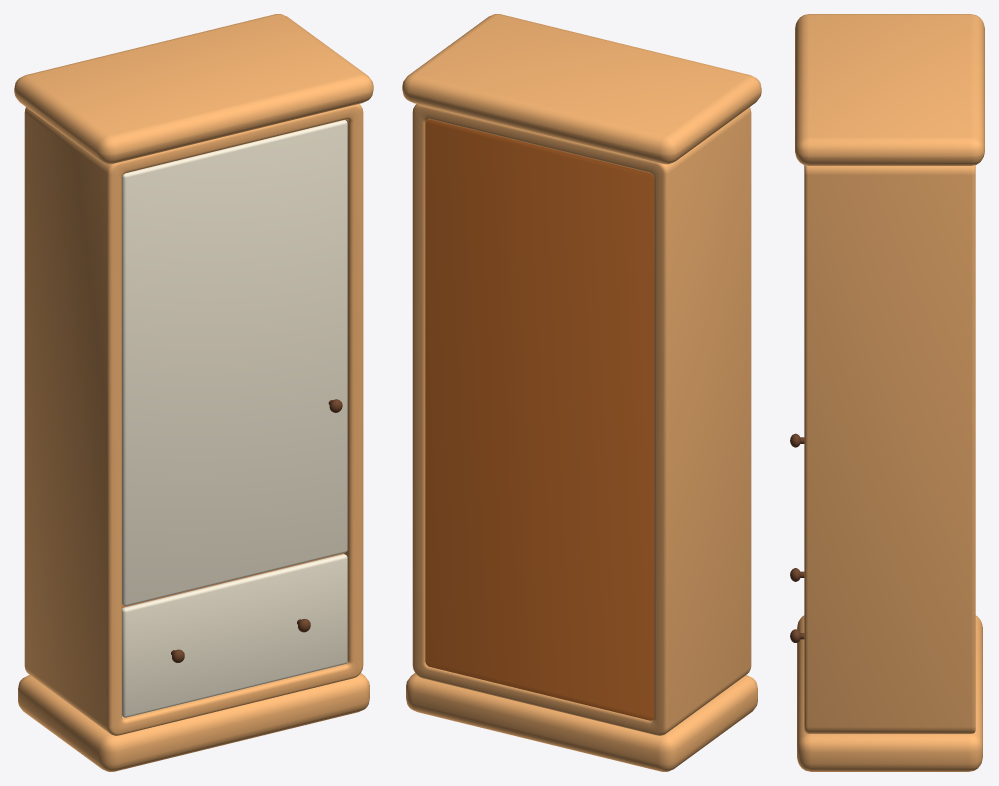
The model's file is armario_porta_gaveta_rodape_laranja.glb.
3 renders of one model, left to right at view 1: azimuth 30°, elevation 25°; view 2: azimuth 150°, elevation 25°; view 3: azimuth 270°, elevation 25°, orthographic.
Parts seen in each view (by area): view 1: armario_porta_gaveta_rodape_laranja, porta_1, gaveta_1; view 2: armario_porta_gaveta_rodape_laranja; view 3: armario_porta_gaveta_rodape_laranja.
Boxes of the visible parts, x1,y1,x2,y2 form: armario_porta_gaveta_rodape_laranja: (14, 14, 373, 771); porta_1: (122, 120, 347, 606); gaveta_1: (122, 554, 347, 717); armario_porta_gaveta_rodape_laranja: (402, 14, 761, 771); armario_porta_gaveta_rodape_laranja: (795, 14, 984, 771).
Size of the model in its own units: 0.775 by 1.72 by 0.4771.
Materials: 1 (1 with a texture image).
